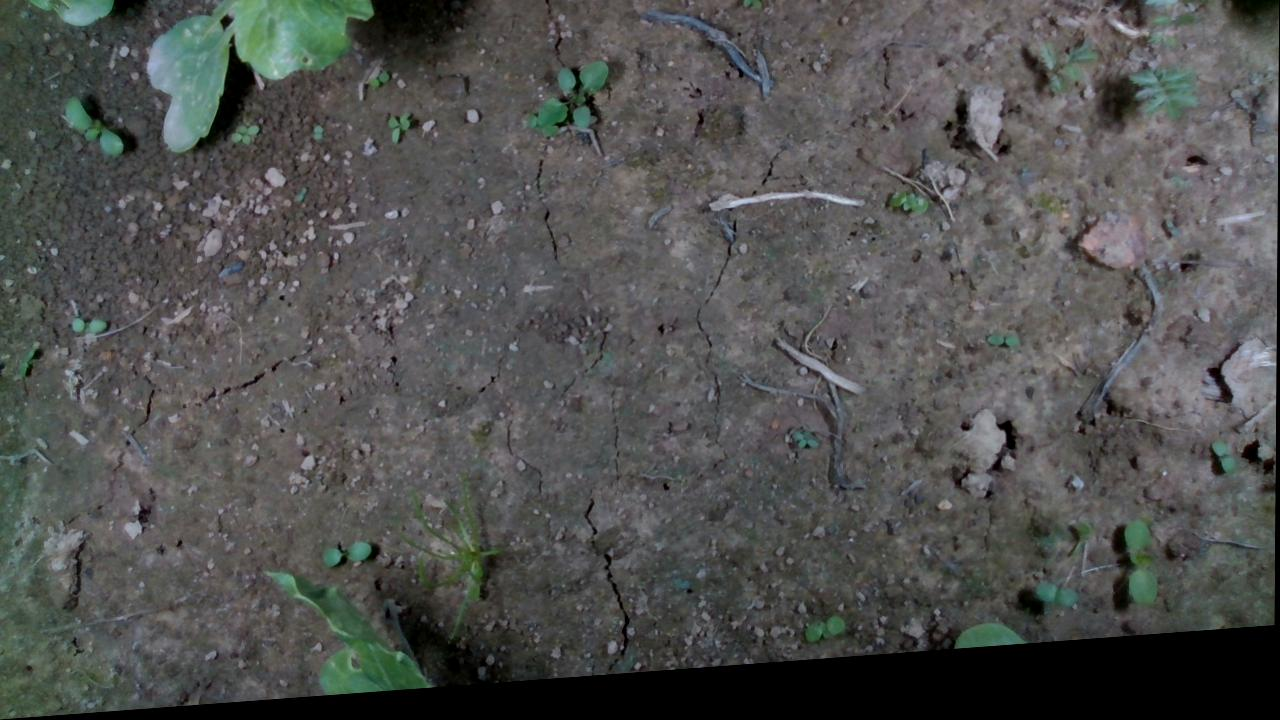weed: (367, 74, 388, 97)
